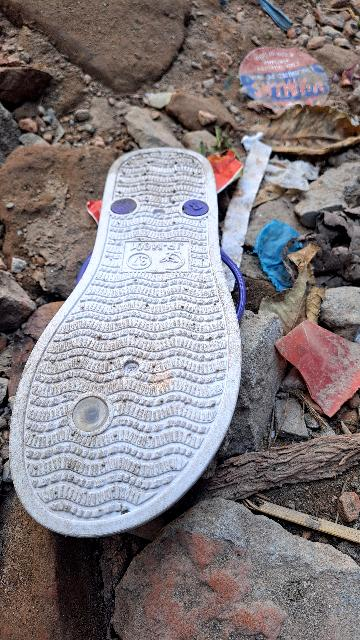sandal: (0, 153, 238, 551)
